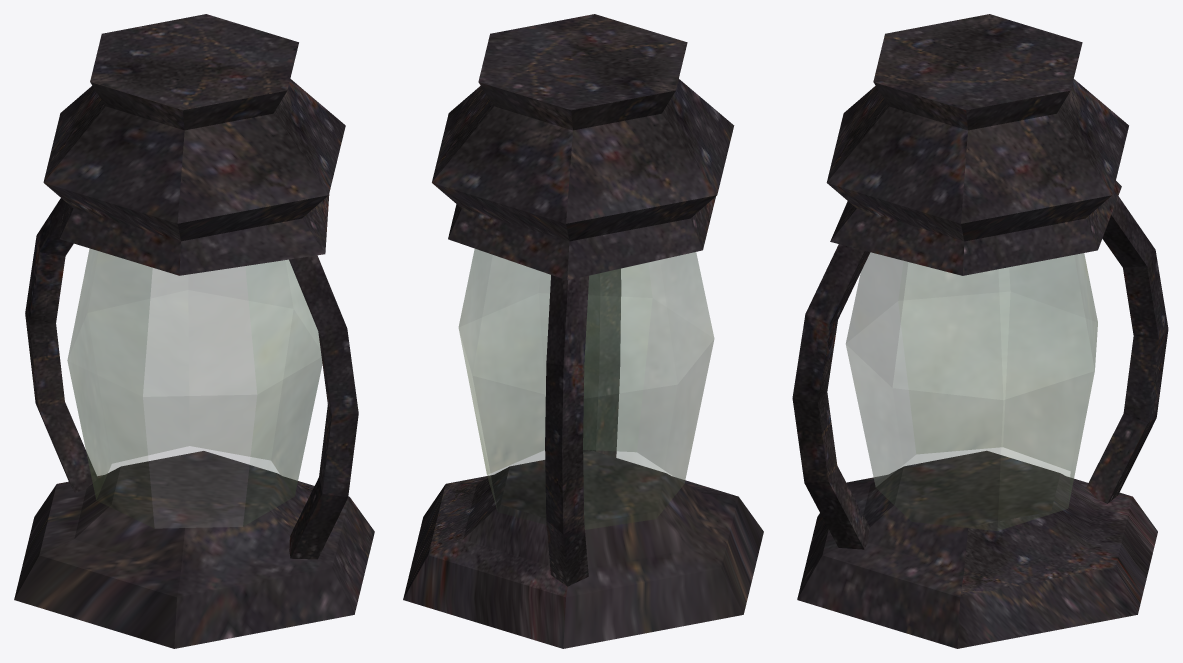
Rendered from lantern.fbx.
3 renders of one model, left to right at view 1: azimuth 30°, elevation 25°; view 2: azimuth 150°, elevation 25°; view 3: azimuth 270°, elevation 25°, orthographic.
Parts seen in each view (by area): view 1: lantern, glass, Circle.001; view 2: lantern, glass, Circle.001; view 3: lantern, glass, Circle.001.
Part boxes in pixels (x1,y1,x2,y2): lantern: (14, 14, 374, 648); glass: (67, 248, 322, 528); Circle.001: (25, 198, 358, 559); lantern: (403, 14, 763, 648); glass: (458, 249, 714, 529); Circle.001: (545, 269, 620, 586); lantern: (797, 14, 1157, 648); glass: (846, 252, 1097, 530); Circle.001: (792, 196, 1168, 549).
Bounding box in the file's own units: 28.94 × 40.88 × 27.65.
